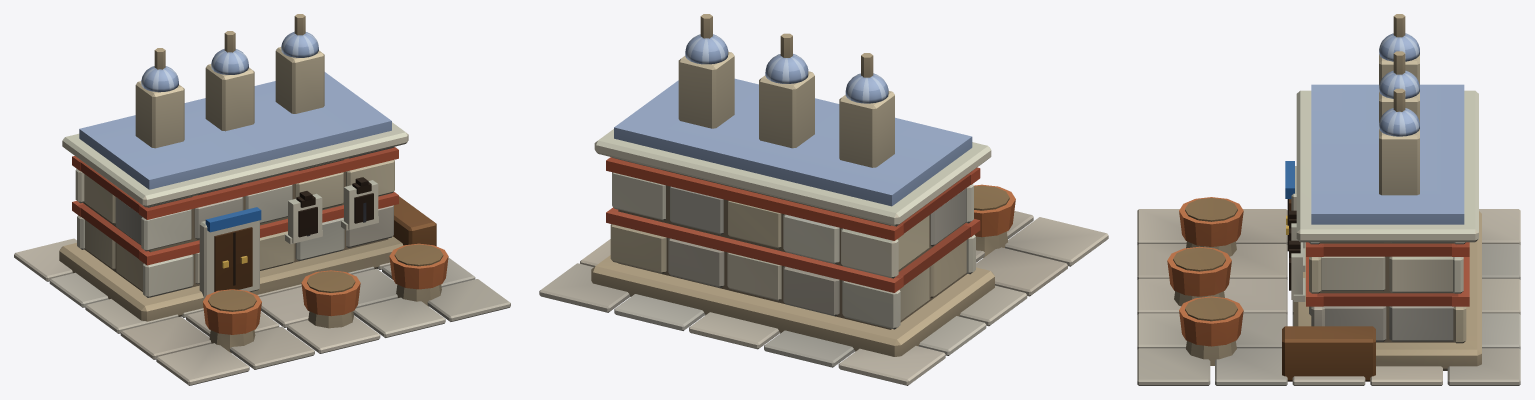
The model's file is b_kitchen.glb.
The picture shows the model from 3 angles, left to right: view 1: azimuth 30°, elevation 25°; view 2: azimuth 150°, elevation 25°; view 3: azimuth 270°, elevation 25°; orthographic projection. The views are drawn at different scales.
Parts seen in each view (by area): view 1: b_kitchen, L2, L3; view 2: b_kitchen, L2; view 3: b_kitchen, L3, L2.
Boxes of the visible parts, x1,y1,x2,y2 form: b_kitchen: (14, 14, 510, 385); L2: (205, 31, 360, 328); L3: (389, 196, 448, 306); b_kitchen: (539, 14, 1108, 385); L2: (759, 33, 814, 148); b_kitchen: (1137, 14, 1520, 385); L3: (1179, 296, 1375, 381); L2: (1167, 51, 1419, 306).
Size of the model in its own units: 0.692 by 0.464 by 0.652.
